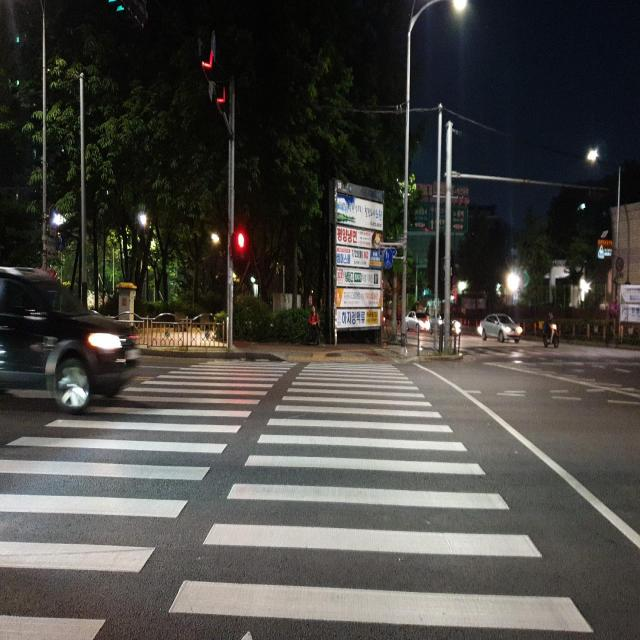빨간불: (235, 231, 247, 269)
횡단보도: (0, 356, 595, 640)
